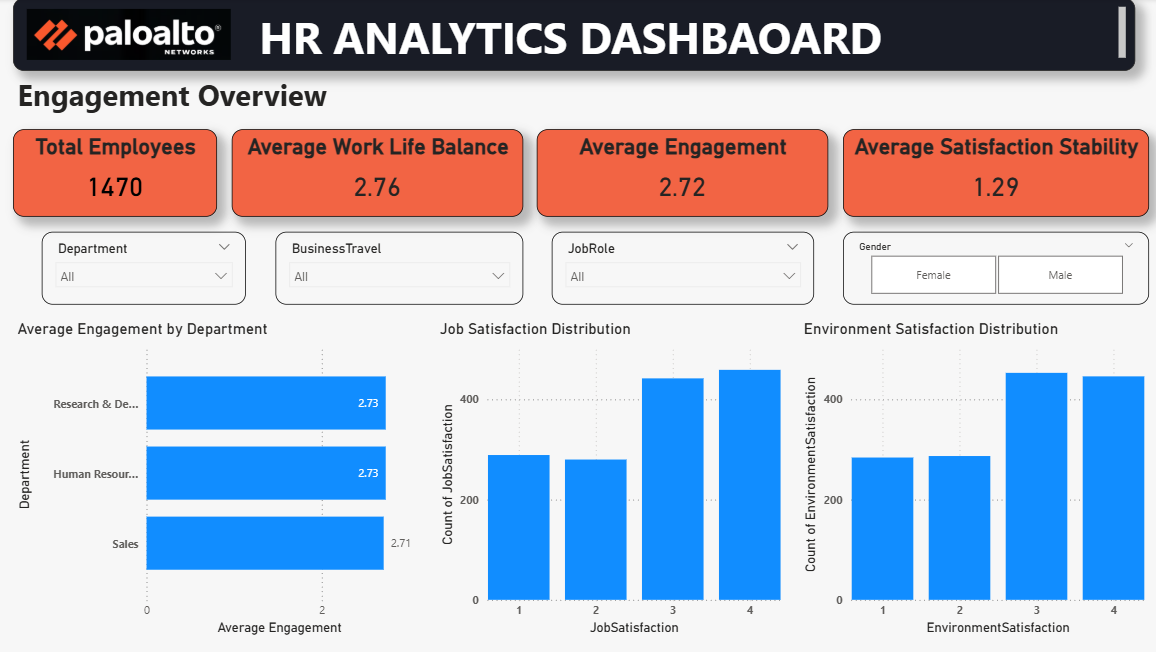

What the dashboard file says about the page in this screenshot:
{"tool":"powerbi","page":{"name":"Page 1","canvas":[1280,720],"ordinal":0},"visuals":[{"type":"card","title":"Total Employees","fields":{"Values":["Palo_Alto_Cleaned.Total Employee"]},"box":[16,144,224,96],"z":0},{"type":"card","title":"Average Work Life Balance","fields":{"Values":["Palo_Alto_Cleaned.Average WorkLifeBalance"]},"box":[256,144,320,96],"z":1000},{"type":"card","title":"Average Engagement","fields":{"Values":["Palo_Alto_Cleaned.Average Engagement"]},"box":[592,144,320,96],"z":2000},{"type":"slicer","fields":{"Values":["Palo_Alto_Cleaned.Gender"]},"box":[928,256,336,80],"z":3000},{"type":"slicer","fields":{"Values":["Palo_Alto_Cleaned.JobRole"]},"box":[608,256,288,80],"z":4000},{"type":"slicer","fields":{"Values":["Palo_Alto_Cleaned.Department"]},"box":[48,256,224,80],"z":5000},{"type":"barChart","fields":{"Category":["Palo_Alto_Cleaned.Department"],"Y":["Palo_Alto_Cleaned.Average Engagement"]},"box":[16,352,448,352],"z":6000},{"type":"textbox","box":[16,0,1232,80],"z":7000},{"type":"image","box":[32,0,224,80],"z":8000},{"type":"card","title":"Average Satisfaction Stability","fields":{"Values":["Palo_Alto_Cleaned.Average Satisfaction Stability"]},"box":[928,144,336,96],"z":9000},{"type":"clusteredColumnChart","title":"Job Satisfaction Distribution","fields":{"Category":["Palo_Alto_Cleaned.JobSatisfaction"],"Y":["CountNonNull(Palo_Alto_Cleaned.JobSatisfaction)"]},"box":[480,352,384,352],"z":10000},{"type":"clusteredColumnChart","title":"Environment Satisfaction Distribution","fields":{"Category":["Palo_Alto_Cleaned.EnvironmentSatisfaction"],"Y":["CountNonNull(Palo_Alto_Cleaned.EnvironmentSatisfaction)"]},"box":[880,352,384,352],"z":11000},{"type":"slicer","fields":{"Values":["Palo_Alto_Cleaned.BusinessTravel"]},"box":[304,256,272,80],"z":12000},{"type":"textbox","box":[16,80,528,64],"z":12001}]}

Visuals, with their boxes in screenshot pixels (x1, y1, x2, y2), scaled from the page's 1280x720 canvas onto the 1156x652 screenshot:
"Total Employees" card: locate(14, 130, 217, 217)
"Average Work Life Balance" card: locate(231, 130, 520, 217)
"Average Engagement" card: locate(535, 130, 824, 217)
slicer - Palo_Alto_Cleaned.Gender: locate(838, 232, 1142, 304)
slicer - Palo_Alto_Cleaned.JobRole: locate(549, 232, 809, 304)
slicer - Palo_Alto_Cleaned.Department: locate(43, 232, 246, 304)
barChart - Palo_Alto_Cleaned.Department x Palo_Alto_Cleaned.Average Engagement: locate(14, 319, 419, 638)
textbox: locate(14, 0, 1127, 72)
image: locate(29, 0, 231, 72)
"Average Satisfaction Stability" card: locate(838, 130, 1142, 217)
"Job Satisfaction Distribution" clusteredColumnChart: locate(434, 319, 780, 638)
"Environment Satisfaction Distribution" clusteredColumnChart: locate(795, 319, 1142, 638)
slicer - Palo_Alto_Cleaned.BusinessTravel: locate(275, 232, 520, 304)
textbox: locate(14, 72, 491, 130)
